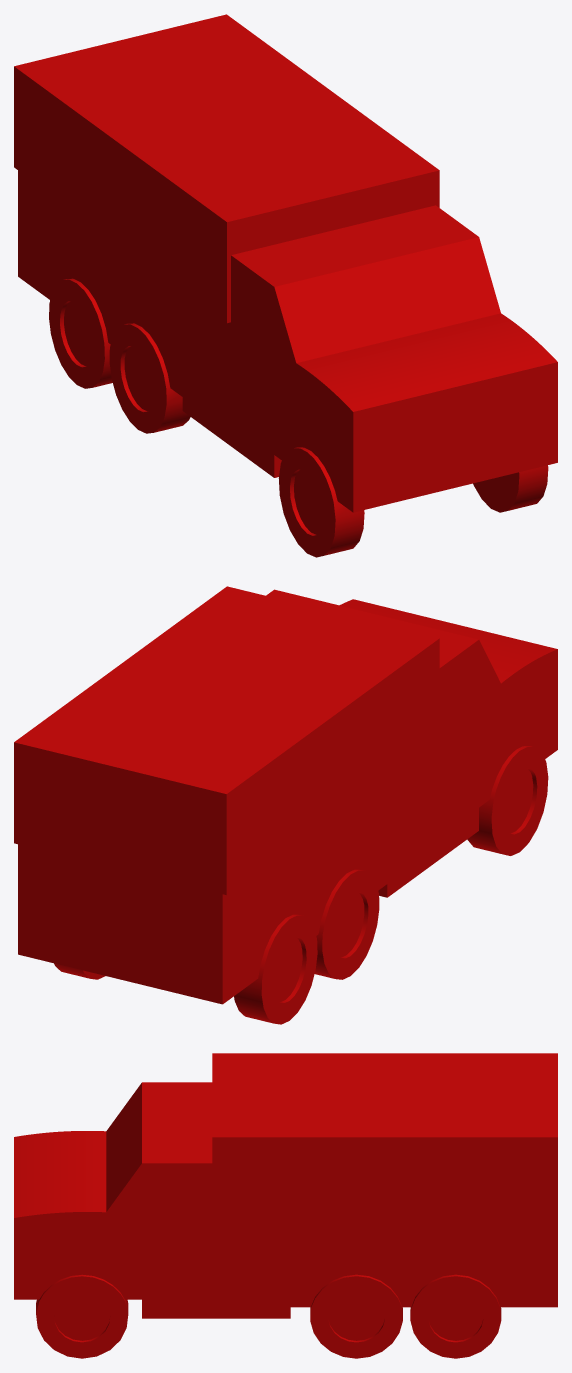
File: Game_Piece_Troop_3_Red_01.fbx
3 renders of one model, top to bottom at view 1: azimuth 30°, elevation 25°; view 2: azimuth 150°, elevation 25°; view 3: azimuth 270°, elevation 25°, orthographic. The views are drawn at different scales.
Parts seen in each view (by area): view 1: Game_Piece_Troop_3_Red_01; view 2: Game_Piece_Troop_3_Red_01; view 3: Game_Piece_Troop_3_Red_01.
Boxes of the visible parts, x1=… form: Game_Piece_Troop_3_Red_01: x1=14, y1=14, x2=557, y2=557; Game_Piece_Troop_3_Red_01: x1=14, y1=586, x2=557, y2=1024; Game_Piece_Troop_3_Red_01: x1=14, y1=1053, x2=557, y2=1358.
Bounding box in the file's own units: 10.54 × 12.92 × 28.79.
